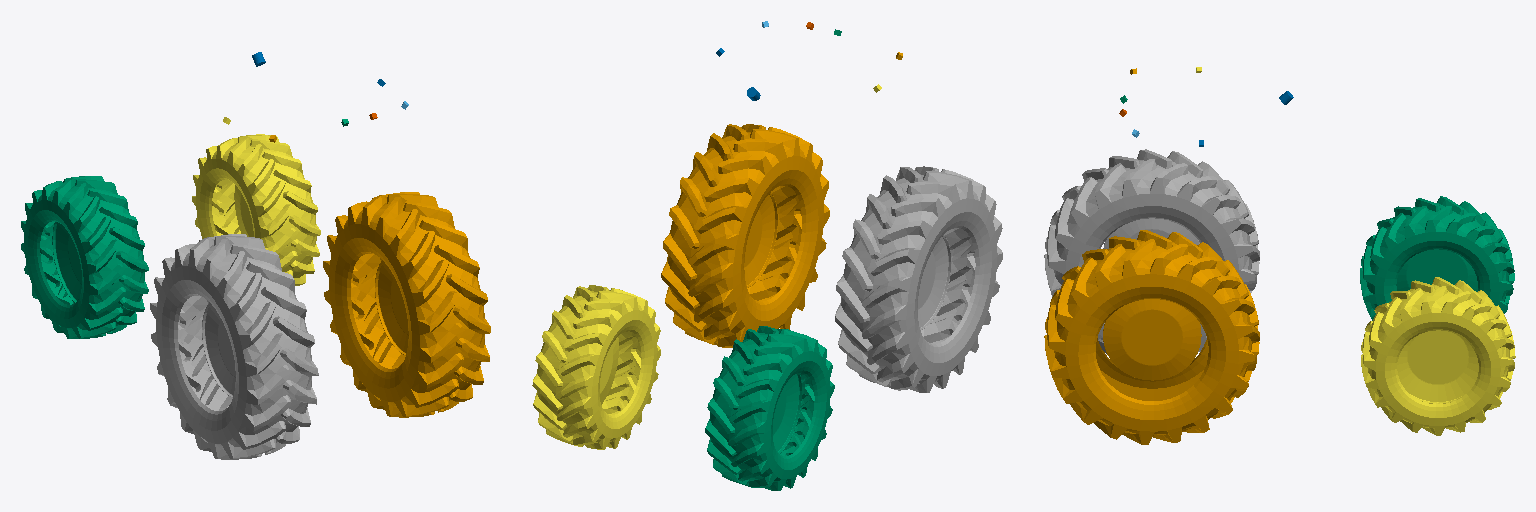
robot.urdf — vario700_sensorrig:
<?xml version="1.0" encoding="UTF-8"?>
<robot name="vario700_sensorrig">
  <joint name="sensorrig_joint" type="fixed">
    <origin xyz="0 -1.35969 2.89559" rpy="0 0 1.5707964"/>
    <parent link="base_link"/>
    <child link="sensorrig"/>
  </joint>

  <!-- OS-Sensor Links and Joints -->
  <!-- Currently just manually measured by aligning OS-Sensor Pointcloud with Fendt 724 model -->
  <joint name="joint_base_link-os_sensor" type="fixed">
    <!-- Last manual align on barn: <origin xyz="0.0 0.26 2.98" rpy="0 -0.802851 -1.570796"/> -->
    <origin xyz="0.10 0.26 2.98" rpy="0 -0.812851 -1.570796"/>
    <parent link="base_link"/>
    <child link="os_sensor"/>
  </joint>

  <joint name="os_sensor_to_os_lidar" type="fixed">
    <origin xyz="0 0 0.038195" rpy="0 0 0"/>
    <parent link="os_sensor"/>
    <child link="os_lidar"/>
  </joint>

  <!-- From Ouster ROS Wrapper -->
  <joint name="os_imu_joint" type="fixed">
    <origin xyz="-0.002441 -0.009725 0.007533" rpy="0 -1.570796 0"/>
    <parent link="os_sensor"/>
    <child link="os_imu"/>
  </joint>
  <!-- Camera Links and Joints: Chain from Kalibr calibration -->
  <!-- Chain: rear_mid -> rear_left -> side_left; rear_mid -> rear_right -> side_right -->
  <!-- rear_mid position preserved relative from previous calibration -->
  <joint name="joint_base_link-camera_rear_mid" type="fixed">
    <origin xyz="0.113 -1.325 2.967" rpy="-2.140 -0.011 3.115"/>
    <parent link="base_link"/>
    <child link="camera_rear_mid"/>
  </joint>

  <joint name="joint_camera_rear_mid-camera_rear_left" type="fixed">
    <origin xyz="0.722 0.076 -0.040" rpy="0.411 0.696 0.725"/>
    <parent link="camera_rear_mid"/>
    <child link="camera_rear_left"/>
  </joint>

  <joint name="joint_camera_rear_left-camera_side_left" type="fixed">
    <origin xyz="0.603779435740509 0.107615370836158 -0.220133541697209" rpy="-0.274021914012596 0.476695080303784 0.235842064594591"/>
    <parent link="camera_rear_left"/>
    <child link="camera_side_left"/>
  </joint>

  <joint name="joint_camera_rear_mid-camera_rear_right" type="fixed">
    <origin xyz="-0.706334753202191 0.093880879447860 -0.097177067544477" rpy="0.289483560633349 -0.708003013226559 -0.687384588595347"/>
    <parent link="camera_rear_mid"/>
    <child link="camera_rear_right"/>
  </joint>

  <joint name="joint_camera_rear_right-camera_side_right" type="fixed">
      <origin 
        xyz="-0.580428993498309 0.178316121505517 -0.240298356120014"
        rpy="-0.113989203132654 -0.562324884121995 -0.403106074270324"/>    
    <parent link="camera_rear_right"/>
    <child link="camera_side_right"/>
  </joint>

  <!-- Blickfeld attached to rear_mid; Blickfeld is unintuitively recorded in frame "Root" -->
  <joint name="joint_camera_rear_mid-Root" type="fixed">
    <origin xyz="-0.300000 0.000000 0.000000" rpy="1.232202 0.000000 0.000003"/>
    <parent link="camera_rear_mid"/>
    <child link="Root"/>
  </joint>



  <!-- ZED Camera Links and Joints -->
  <!-- DEPRECATED -->
  <!-- Manually alligned ZED-Pointcloud with Fendt 724 model / Ouster-Pointcloud -->
  <!-- 
  <joint name="zed_camera_link_joint" type="fixed">
    <origin xyz="0.08 0.26  3.05" rpy="0.0 0.427851 1.570796"/>
    <parent link="base_link"/>
    <child link="zed_camera_link"/>
  </joint>
  -->

  <!-- NEW -->
  <!-- ICP-Registration of ZED-Pointcloud with Ouster-Pointcloud -->
  <!-- Right Camera Frames not included yet -->
  <joint name="zed_left_camera_joint" type="fixed">
    <parent link="os_sensor"/>
    <child link="zed_left_camera_frame"/>
    <!-- ICP from barn, seemed visually off -->
    <!-- <origin xyz="-0.017881 -0.118638 0.062218" rpy="-0.015401 -0.354727 -3.119028"/>  -->
    <!-- ICP Windrow 4 -->
    <!-- <origin xyz="-0.026789 -0.098001 0.035757" rpy="-0.019154 -0.401029 -3.126174"/>  -->
    <!-- ICP Garage -->
    <origin xyz="0.166753 -0.157008 -0.192582" rpy="-0.007683 -0.361936 -3.122481"/>
  </joint>

   <!-- From ZED ROS Wrapper -->
  <joint name="zed_left_camera_optical_frame_joint" type="fixed">
    <origin xyz="0 0 0" rpy="-1.57079632679 0 -1.57079632679"/>
    <parent link="zed_left_camera_frame"/>
    <child link="zed_left_camera_optical_frame"/>
  </joint>

  <joint name="zed_camera_center_joint" type="fixed">
    <origin xyz="0.010 -0.060 0.000" rpy="0 0 0"/>
    <parent link="zed_left_camera_frame"/>
    <child link="zed_camera_center"/>
  </joint>

  <joint name="zed_right_camera_joint" type="fixed">
    <origin xyz="-0.010 -0.060 0.000" rpy="0 0 0"/>
    <parent link="zed_camera_center"/>
    <child link="zed_right_camera_frame"/>
  </joint>

  <joint name="zed_camera_link_joint" type="fixed">
    <origin xyz="0 0 -0.015" rpy="0 0 0"/>
    <parent link="zed_camera_center"/>
    <child link="zed_camera_link"/>
  </joint>

  <joint name="zed_right_camera_optical_frame_joint" type="fixed">
    <origin xyz="0 0 0" rpy="-1.57079632679 0 -1.57079632679"/>
    <parent link="zed_right_camera_frame"/>
    <child link="zed_right_camera_optical_frame"/>
  </joint>




  <joint name="back_left_joint" type="fixed">
    <origin xyz="-0.929712 -1.05215 0.79196" rpy="0 0 3.1415927"/>
    <parent link="base_link"/>
    <child link="back_left_wheel"/>
  </joint>

  <joint name="back_right_joint" type="fixed">
    <origin xyz="0.929712 -1.05215 0.79196" rpy="0 0 3.1415927"/>
    <parent link="base_link"/>
    <child link="back_right_wheel"/>
  </joint>

  <joint name="front_left_joint" type="fixed">
    <origin xyz="-0.934094 1.72967 0.581455" rpy="0 0 3.1415927"/>
    <parent link="base_link"/>
    <child link="front_left_wheel"/>
  </joint>

  <joint name="front_right_joint" type="fixed">
    <origin xyz="0.934094 1.72967 0.581455" rpy="0 0 3.1415927"/>
    <parent link="base_link"/>
    <child link="front_right_wheel"/>
  </joint>

  <!-- Visual and Collision Links -->
  <!-- Added geometry to make it easier to visualize in Rviz -->
  <link name="camera_rear_left"><visual><geometry><box size="0.05 0.05 0.05"/></geometry></visual></link>
  <link name="camera_rear_right"><visual><geometry><box size="0.05 0.05 0.05"/></geometry></visual></link>
  <link name="camera_rear_mid"><visual><geometry><box size="0.05 0.05 0.05"/></geometry></visual></link>
  <link name="camera_side_left"><visual><geometry><box size="0.05 0.05 0.05"/></geometry></visual></link>
  <link name="camera_side_right"><visual><geometry><box size="0.05 0.05 0.05"/></geometry></visual></link>

  <link name="Root"><visual><geometry><box size="0.05 0.05 0.05"/></geometry></visual></link>

  <link name="zed_camera_link"></link>
  <link name="zed_camera_center"></link>
  <link name="zed_left_camera_frame"></link>
  <link name="zed_right_camera_frame"></link>
  <!-- <link name="zed_imu_link"></link> -->
  <link name="zed_left_camera_optical_frame"></link>
  <link name="zed_right_camera_optical_frame"></link>

  <link name="os_sensor"><visual><geometry><cylinder radius="0.05" length="0.1"/></geometry></visual></link>
  <link name="os_lidar"/>
  <link name="os_imu"/>


  <!-- Wheel Links and Joints -->
  <!-- Geometry is from Fendt 724 model Farming Simulator 22 -->
  <!-- Needs further refinement, especially in the mass and inertia -->
  <link name="back_left_wheel">
    <inertial><origin xyz="0 0 0" rpy="0 0 0"/><mass value="1"/><inertia ixx="0.01" ixy="0" ixz="0" iyy="0.01" iyz="0" izz="0.01"/></inertial>
    <visual><origin xyz="0 0 0" rpy="0 0 0"/><geometry><mesh filename="package://vario700_sensorrig/meshes/back_left_wheel_visuals.obj" scale="0.1 0.1 0.1"/></geometry></visual>
    <collision><origin xyz="0 0 0" rpy="0 0 0"/><geometry><mesh filename="package://vario700_sensorrig/meshes/back_left_wheel_collisions.obj" scale="0.1 0.1 0.1"/></geometry></collision>
  </link>

  <link name="back_right_wheel">
    <inertial><origin xyz="0 0 0" rpy="0 0 0"/><mass value="1"/><inertia ixx="0.01" ixy="0" ixz="0" iyy="0.01" iyz="0" izz="0.01"/></inertial>
    <visual><origin xyz="0 0 0" rpy="0 0 0"/><geometry><mesh filename="package://vario700_sensorrig/meshes/back_right_wheel_visuals.obj" scale="0.1 0.1 0.1"/></geometry></visual>
    <collision><origin xyz="0 0 0" rpy="0 0 0"/><geometry><mesh filename="package://vario700_sensorrig/meshes/back_right_wheel_collisions.obj" scale="0.1 0.1 0.1"/></geometry></collision>
  </link>

  <link name="base_link">
    <inertial><origin xyz="0 0 0" rpy="0 0 0"/><mass value="10"/><inertia ixx="1" ixy="0" ixz="0" iyy="1" iyz="0" izz="1"/></inertial>
    <visual><origin xyz="0 0 0" rpy="0 0 0"/><geometry><mesh filename="package://vario700_sensorrig/meshes/base_link_visuals.obj" scale="0.1 0.1 0.1"/></geometry></visual>
    <collision><origin xyz="0 0 0" rpy="0 0 0"/><geometry><mesh filename="package://vario700_sensorrig/meshes/base_link_collisions.obj" scale="0.1 0.1 0.1"/></geometry></collision>
  </link>

  <link name="front_left_wheel">
    <inertial><origin xyz="0 0 0" rpy="0 0 0"/><mass value="1"/><inertia ixx="0.01" ixy="0" ixz="0" iyy="0.01" iyz="0" izz="0.01"/></inertial>
    <visual><origin xyz="0 0 0" rpy="0 0 0"/><geometry><mesh filename="package://vario700_sensorrig/meshes/front_left_wheel_visuals.obj" scale="0.1 0.1 0.1"/></geometry></visual>
    <collision><origin xyz="0 0 0" rpy="0 0 0"/><geometry><mesh filename="package://vario700_sensorrig/meshes/front_left_wheel_collisions.obj" scale="0.1 0.1 0.1"/></geometry></collision>
  </link>

  <link name="front_right_wheel">
    <inertial><origin xyz="0 0 0" rpy="0 0 0"/><mass value="1"/><inertia ixx="0.01" ixy="0" ixz="0" iyy="0.01" iyz="0" izz="0.01"/></inertial>
    <visual><origin xyz="0 0 0" rpy="0 0 0"/><geometry><mesh filename="package://vario700_sensorrig/meshes/front_right_wheel_visuals.obj" scale="0.1 0.1 0.1"/></geometry></visual>
    <collision><origin xyz="0 0 0" rpy="0 0 0"/><geometry><mesh filename="package://vario700_sensorrig/meshes/front_right_wheel_collisions.obj" scale="0.1 0.1 0.1"/></geometry></collision>
  </link>

  <!-- Sensorrig Links and Joints -->
  <!-- Handmade CAD Model -->
  <link name="sensorrig">
    <inertial><origin xyz="0 0 0" rpy="0 0 0"/><mass value="2"/><inertia ixx="0.1" ixy="0" ixz="0" iyy="0.1" iyz="0" izz="0.1"/></inertial>
    <visual><origin xyz="0 0 0" rpy="0 0 0"/><geometry><mesh filename="package://vario700_sensorrig/meshes/sensorrig_visuals.obj" scale="0.001 0.001 0.001"/></geometry></visual>
    <collision><origin xyz="0 0 0" rpy="0 0 0"/><geometry><mesh filename="package://vario700_sensorrig/meshes/sensorrig_collisions.obj" scale="0.001 0.001 0.001"/></geometry></collision>
  </link>
</robot>

--- Render facts (derived) ---
The picture shows the robot from 3 angles, left to right: view 1: azimuth 30°, elevation 25°; view 2: azimuth 150°, elevation 25°; view 3: azimuth 270°, elevation 25°; orthographic projection.
Robot: vario700_sensorrig — 21 links, 20 joints (20 fixed); root link base_link; default pose: every joint at zero.
Links seen in each view (by area): view 1: back_left_wheel, back_right_wheel, front_left_wheel, front_right_wheel; view 2: back_left_wheel, back_right_wheel, front_right_wheel, front_left_wheel; view 3: back_right_wheel, front_right_wheel, back_left_wheel, front_left_wheel.
Link boxes in pixels (box(x1,y1,x2,y2)): back_left_wheel: box(150, 234, 318, 459); back_right_wheel: box(323, 192, 490, 417); front_left_wheel: box(21, 176, 148, 338); front_right_wheel: box(192, 134, 320, 285); back_left_wheel: box(835, 166, 1002, 392); back_right_wheel: box(661, 124, 829, 347); front_right_wheel: box(532, 285, 660, 449); front_left_wheel: box(705, 326, 834, 490); back_right_wheel: box(1044, 230, 1259, 444); front_right_wheel: box(1361, 277, 1515, 435); back_left_wheel: box(1044, 149, 1259, 353); front_left_wheel: box(1360, 196, 1514, 320).
Bounding box of the posed robot: 2.59 × 4.59 × 3.31 m (x, y, z).
4 mesh visuals loaded from 6 distinct referenced files (4 OBJ); not drawn: 2 (reference not matched to a file when rendering).